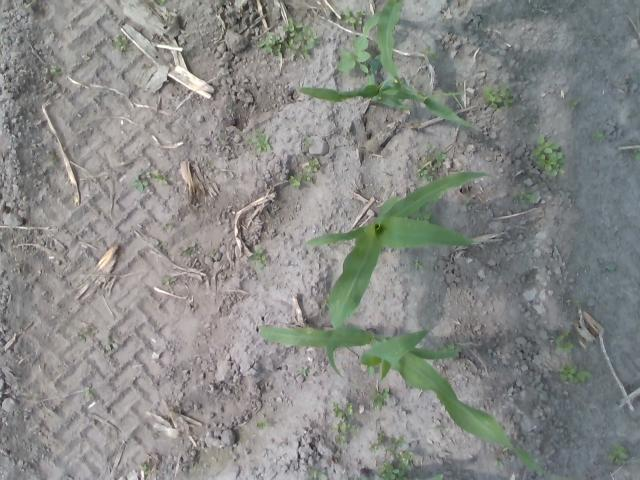Maize: (256, 323, 582, 480), (307, 167, 499, 392), (296, 0, 483, 131), (348, 466, 442, 480)
Weeds: (258, 18, 320, 60), (530, 136, 566, 178), (336, 34, 372, 73), (415, 141, 447, 183), (332, 402, 356, 446), (378, 451, 413, 480), (482, 84, 516, 108), (132, 170, 168, 192), (370, 432, 404, 452), (243, 129, 270, 154), (407, 202, 437, 224), (558, 362, 590, 382), (342, 6, 366, 30), (606, 443, 628, 467), (552, 330, 574, 353), (288, 172, 313, 192), (370, 388, 390, 410), (250, 247, 269, 269), (512, 188, 536, 204), (419, 44, 438, 64), (492, 446, 508, 468), (114, 34, 133, 52), (436, 342, 462, 354), (302, 157, 320, 172), (102, 333, 118, 349), (180, 242, 197, 255), (308, 470, 328, 479), (45, 65, 61, 75), (320, 292, 330, 308), (410, 258, 423, 270), (566, 98, 578, 110), (255, 420, 269, 430), (592, 130, 604, 141), (632, 146, 640, 162), (462, 194, 472, 206), (302, 134, 312, 146), (602, 263, 616, 271), (298, 365, 308, 376), (571, 298, 581, 308), (366, 365, 374, 376), (163, 278, 177, 284), (140, 463, 148, 472), (76, 334, 84, 342), (524, 118, 531, 125), (210, 248, 217, 255), (84, 390, 92, 396), (155, 0, 166, 4), (165, 222, 172, 228), (53, 156, 59, 162)
